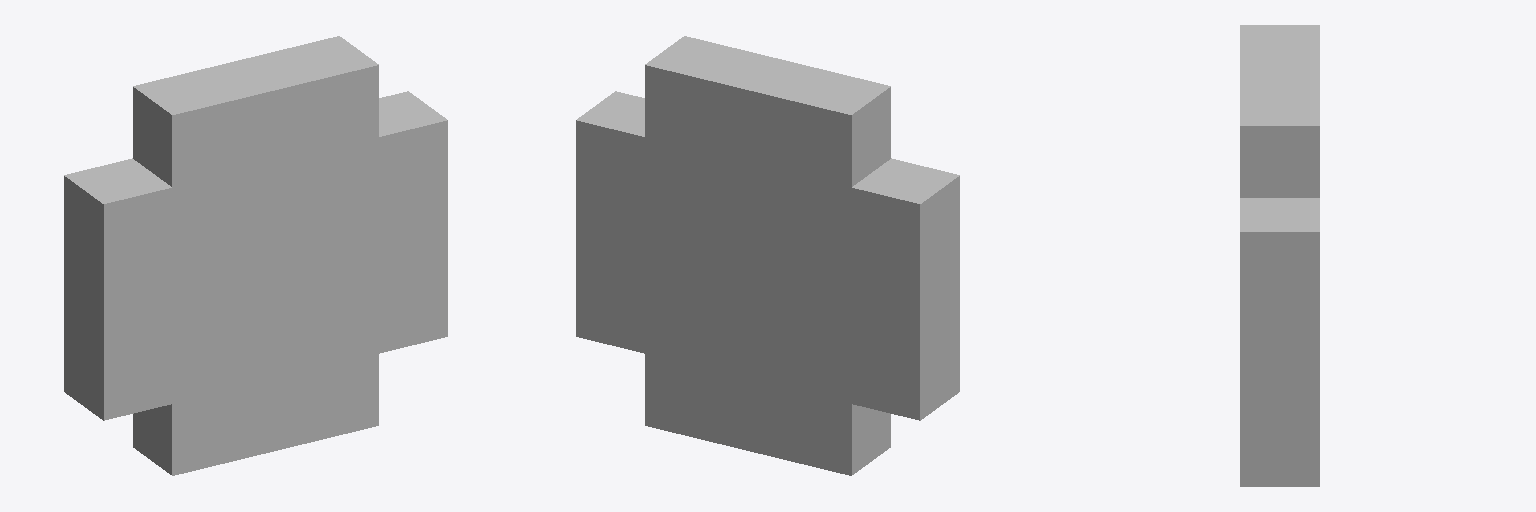
File: coin.obj
3 renders of one model, left to right at view 1: azimuth 30°, elevation 25°; view 2: azimuth 150°, elevation 25°; view 3: azimuth 270°, elevation 25°, orthographic.
Visible parts, largest first — view 1: object 1; view 2: object 1; view 3: object 1.
Part boxes in pixels (bbox=[...]): object 1: bbox=[64, 36, 447, 475]; object 1: bbox=[576, 36, 959, 475]; object 1: bbox=[1240, 25, 1319, 486].
Bounding box in the file's own units: 0.5 × 0.5 × 0.1.